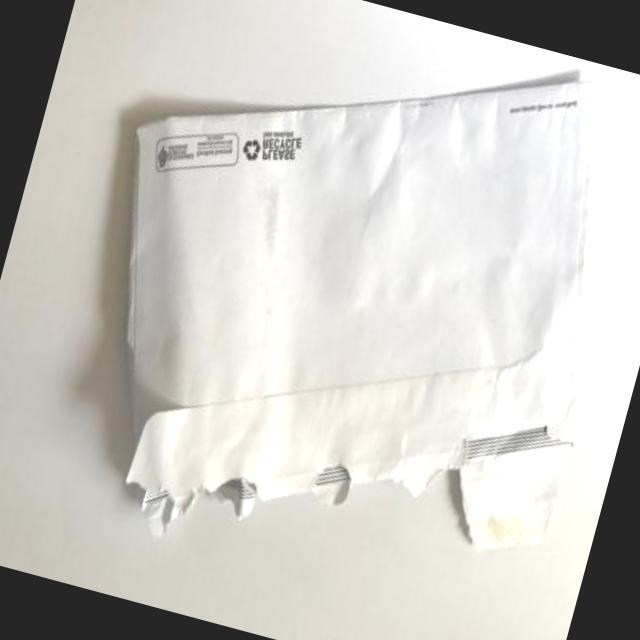giay: (123, 72, 599, 552)
